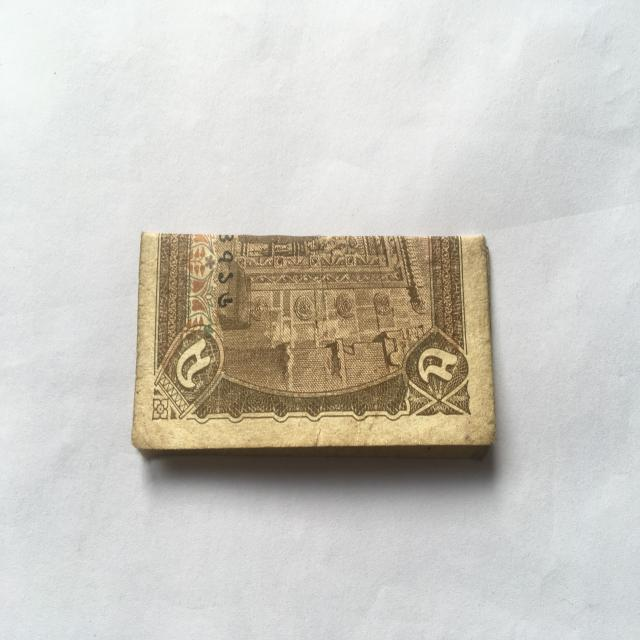Taka: (129, 221, 503, 447)
